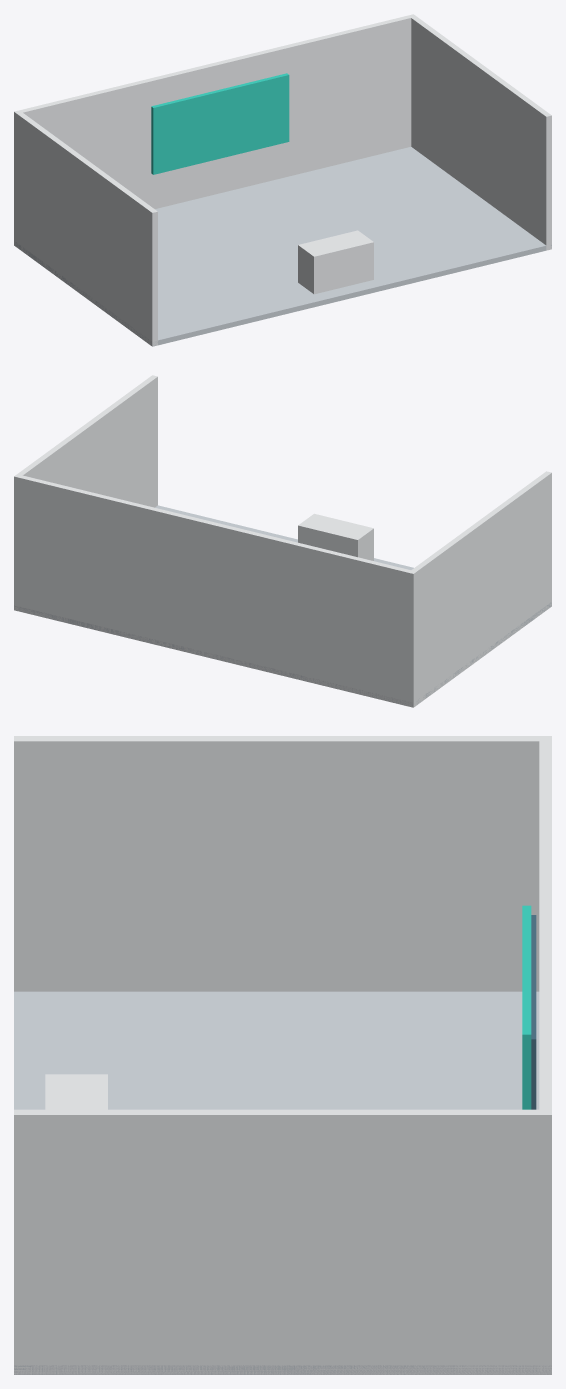
3 views of the same model, one above another, from view 1: azimuth 30°, elevation 25°; view 2: azimuth 150°, elevation 25°; view 3: azimuth 270°, elevation 25° (orthographic). The views are drawn at different scales.
Parts seen in each view (by area): view 1: Exhibition Booth Concept; view 2: Exhibition Booth Concept; view 3: Exhibition Booth Concept.
Boxes of the visible parts, x1,y1,x2,y2 form: Exhibition Booth Concept: (14,14,551,346); Exhibition Booth Concept: (14,375,551,707); Exhibition Booth Concept: (14,736,551,1374).
Bounding box in the file's own units: 10 × 3.2 × 6.
